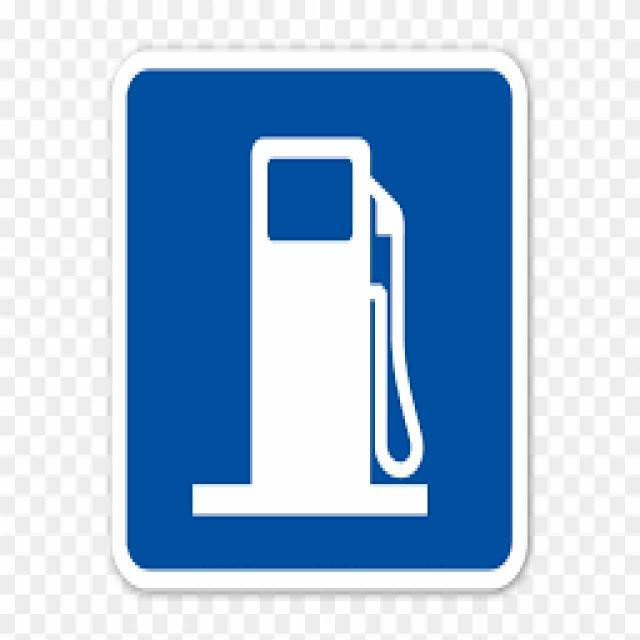petrol pump ahead: (138, 83, 503, 558)
